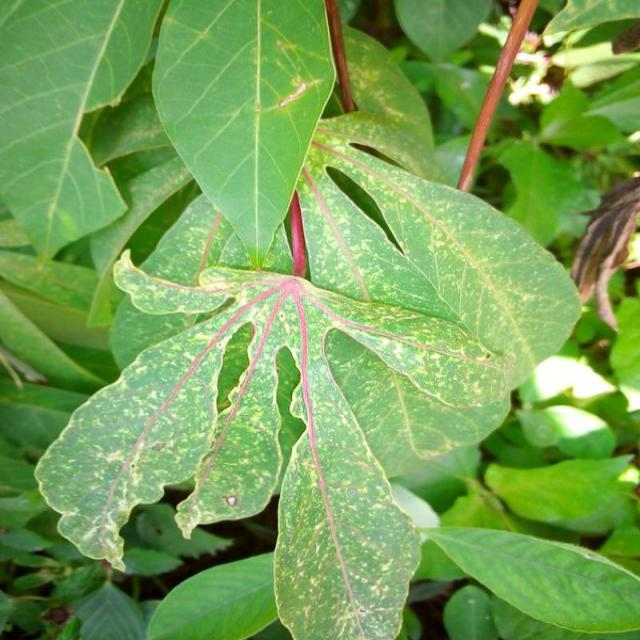cassava leaf: (28, 2, 586, 637), (152, 0, 338, 267)
